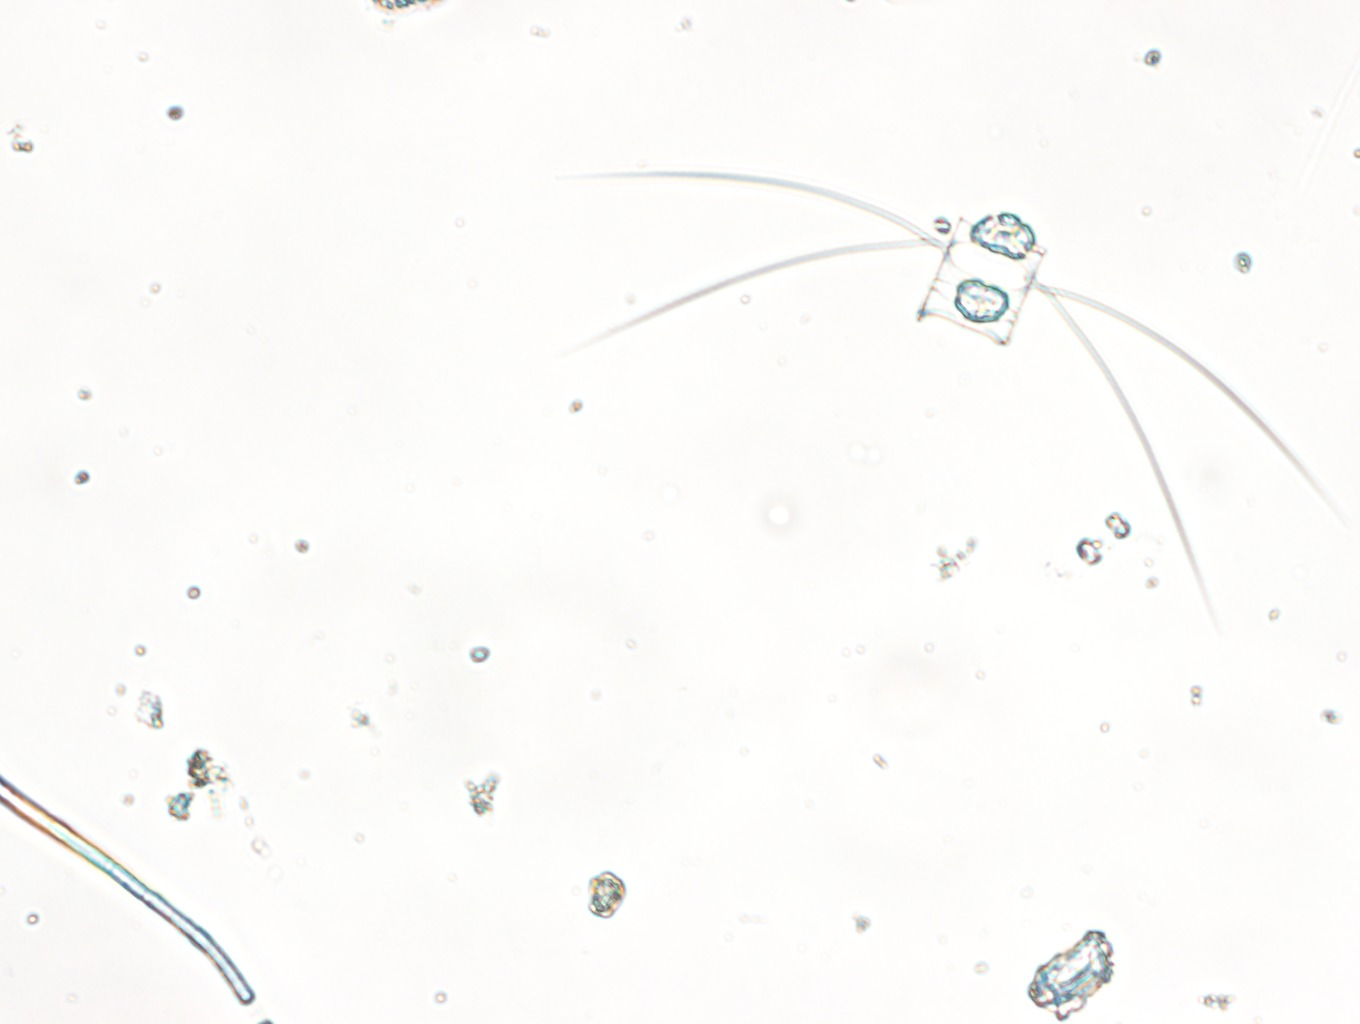chaetoceros: (555, 170, 1338, 609)
